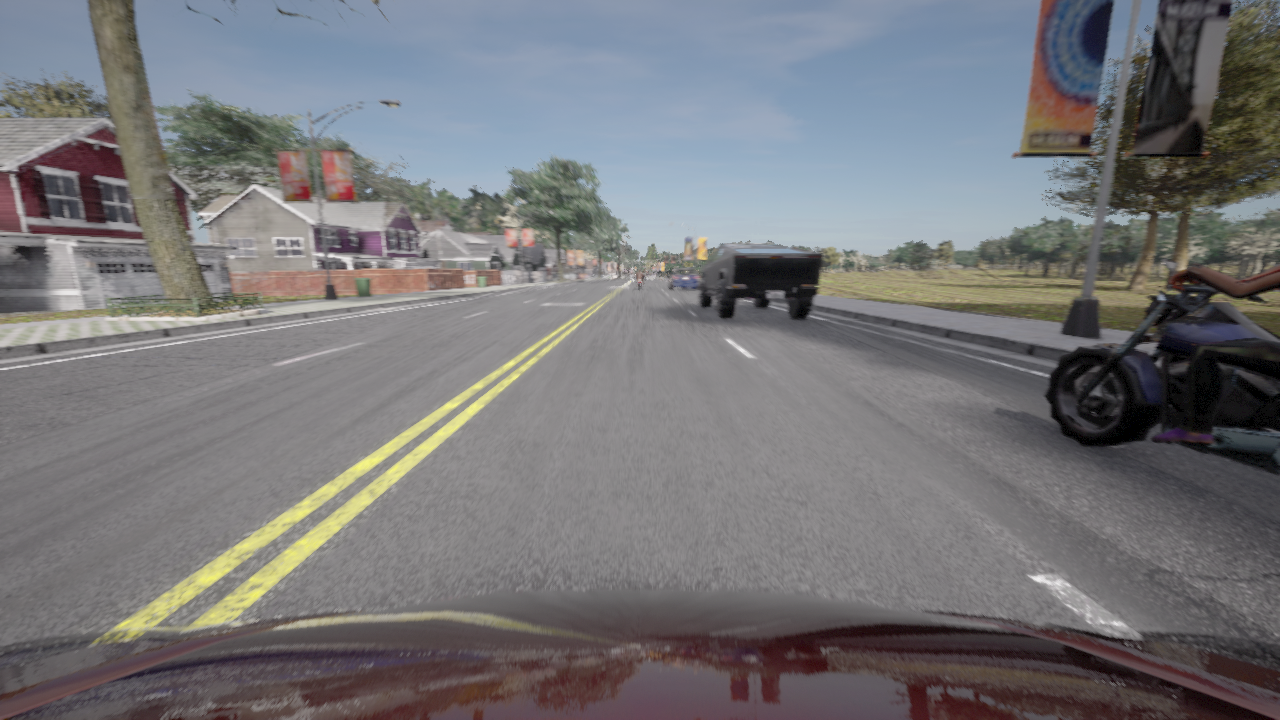cyclist: (0, 588, 1279, 719), (1045, 259, 1279, 474), (697, 244, 821, 318), (667, 267, 698, 290), (637, 277, 642, 289)
